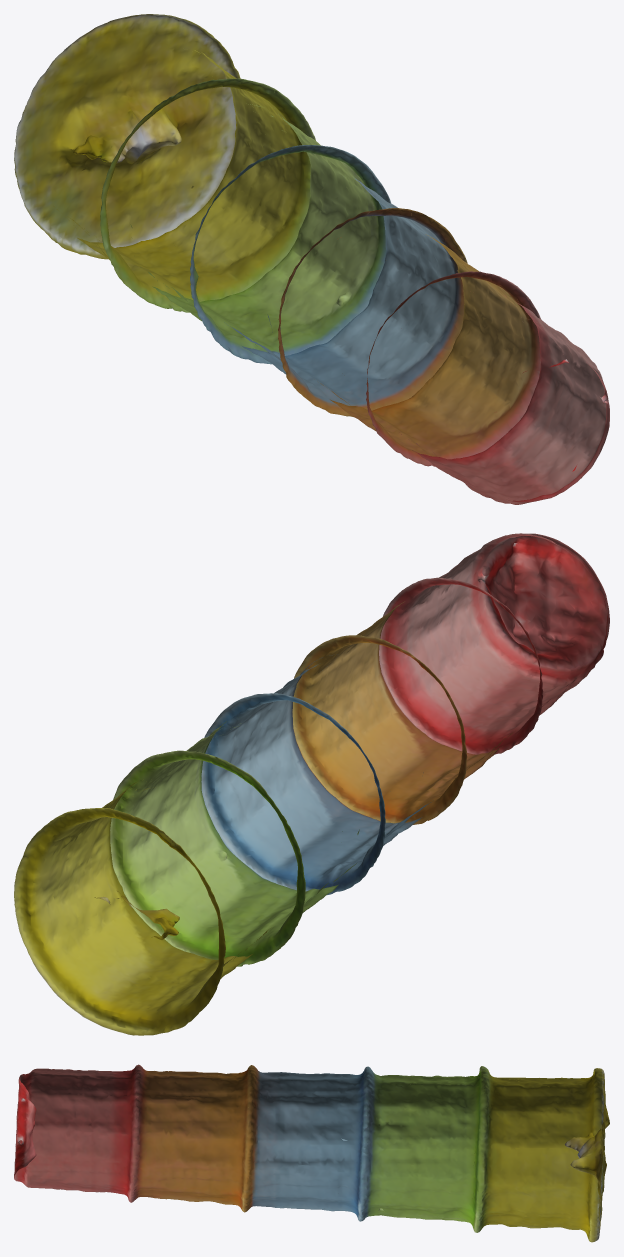
Rendered from stucking_cups.glb.
The picture shows the model from 3 angles, top to bottom: view 1: azimuth 30°, elevation 25°; view 2: azimuth 150°, elevation 25°; view 3: azimuth 270°, elevation 25°; orthographic projection. The views are drawn at different scales.
Size of the model in its own units: 0.294 by 0.2927 by 1.
